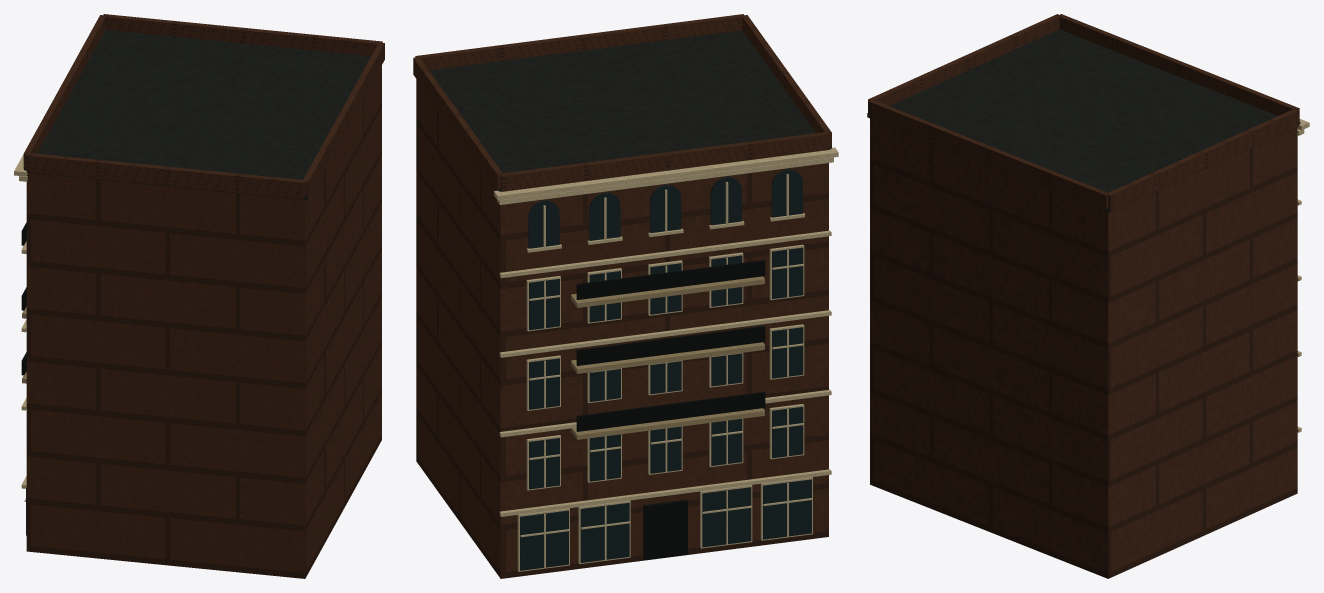
The picture shows the model from 3 angles, left to right: view 1: azimuth 30°, elevation 25°; view 2: azimuth 150°, elevation 25°; view 3: azimuth 270°, elevation 25°; orthographic projection. The views are drawn at different scales.
Visible parts, largest first — view 1: grand-hotel-central-0, grand-hotel-central-1; view 2: grand-hotel-central-0, grand-hotel-central-1, grand-hotel-central-3, grand-hotel-central-2, grand-hotel-central-4, grand-hotel-central-5; view 3: grand-hotel-central-0, grand-hotel-central-1.
Part boxes in pixels (x1,y1,x2,y2): grand-hotel-central-0: [23, 14, 384, 578]; grand-hotel-central-1: [24, 30, 370, 200]; grand-hotel-central-0: [413, 14, 831, 578]; grand-hotel-central-1: [429, 30, 831, 191]; grand-hotel-central-3: [520, 169, 811, 570]; grand-hotel-central-2: [494, 147, 838, 571]; grand-hotel-central-4: [576, 260, 765, 560]; grand-hotel-central-5: [571, 276, 764, 439]; grand-hotel-central-0: [868, 14, 1299, 578]; grand-hotel-central-1: [867, 29, 1300, 212].
Bounding box in the file's own units: 22.26 × 21.45 × 22.37.
Materials: 6 (6 with a texture image).
